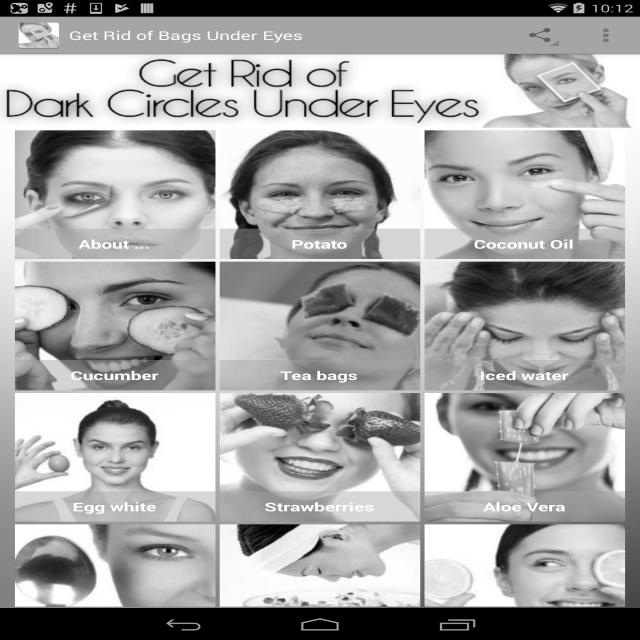ImageButton: (519, 23, 572, 49), (591, 24, 616, 46)
ImageView: (18, 394, 610, 495), (18, 265, 615, 357), (15, 522, 620, 602), (236, 129, 616, 229), (37, 132, 204, 230), (14, 19, 55, 48)
TextView: (6, 60, 478, 117), (69, 24, 311, 46)
